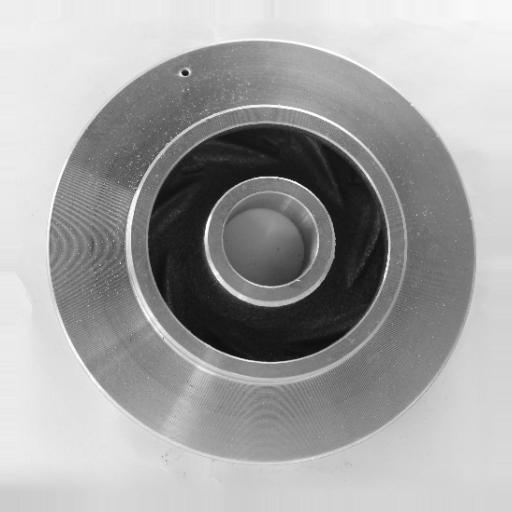pit: (172, 58, 199, 89)
unpolished_casting: (45, 36, 478, 467)
